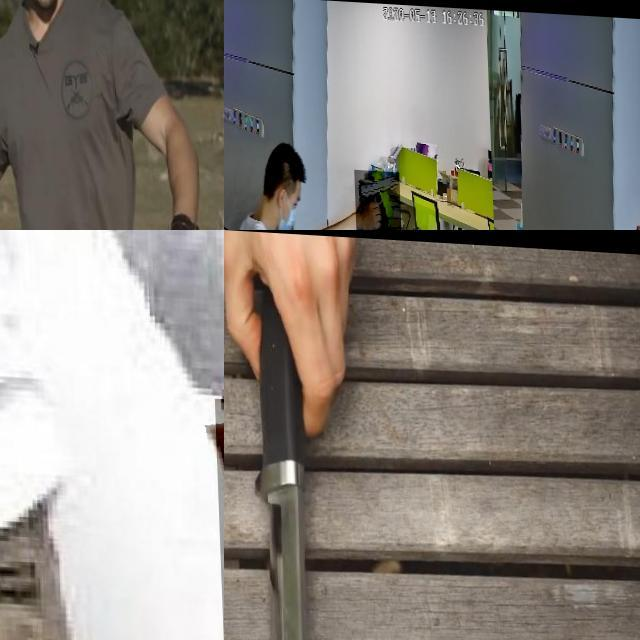-: (224, 304, 368, 640), (224, 451, 270, 640), (0, 175, 42, 230)
gun-knife-thesis - v11 Yolov5 augmented: (352, 167, 399, 230), (627, 178, 640, 230)
